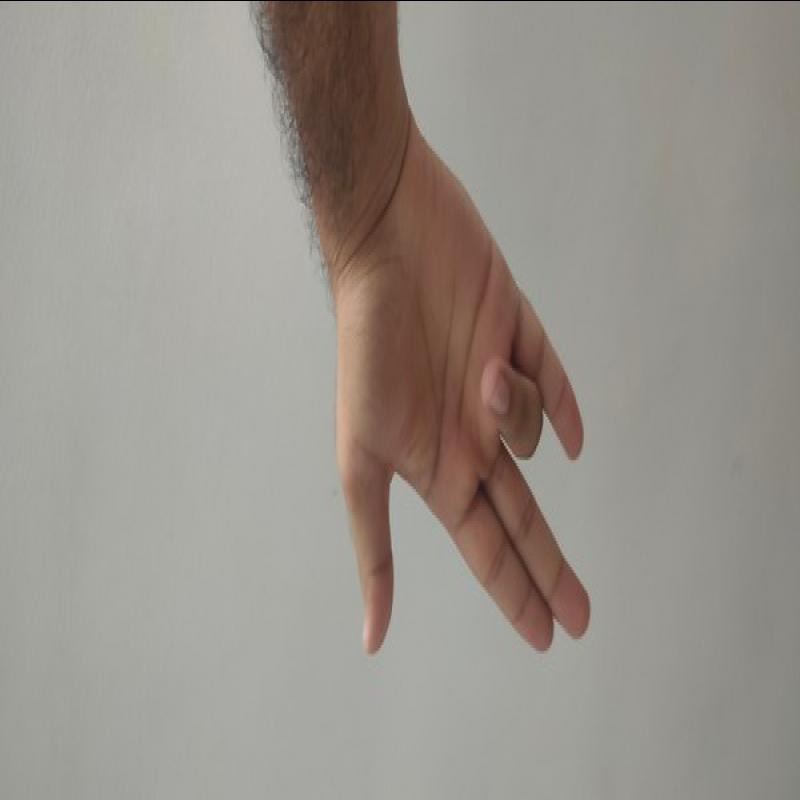Pathaaka: (318, 146, 618, 672)
